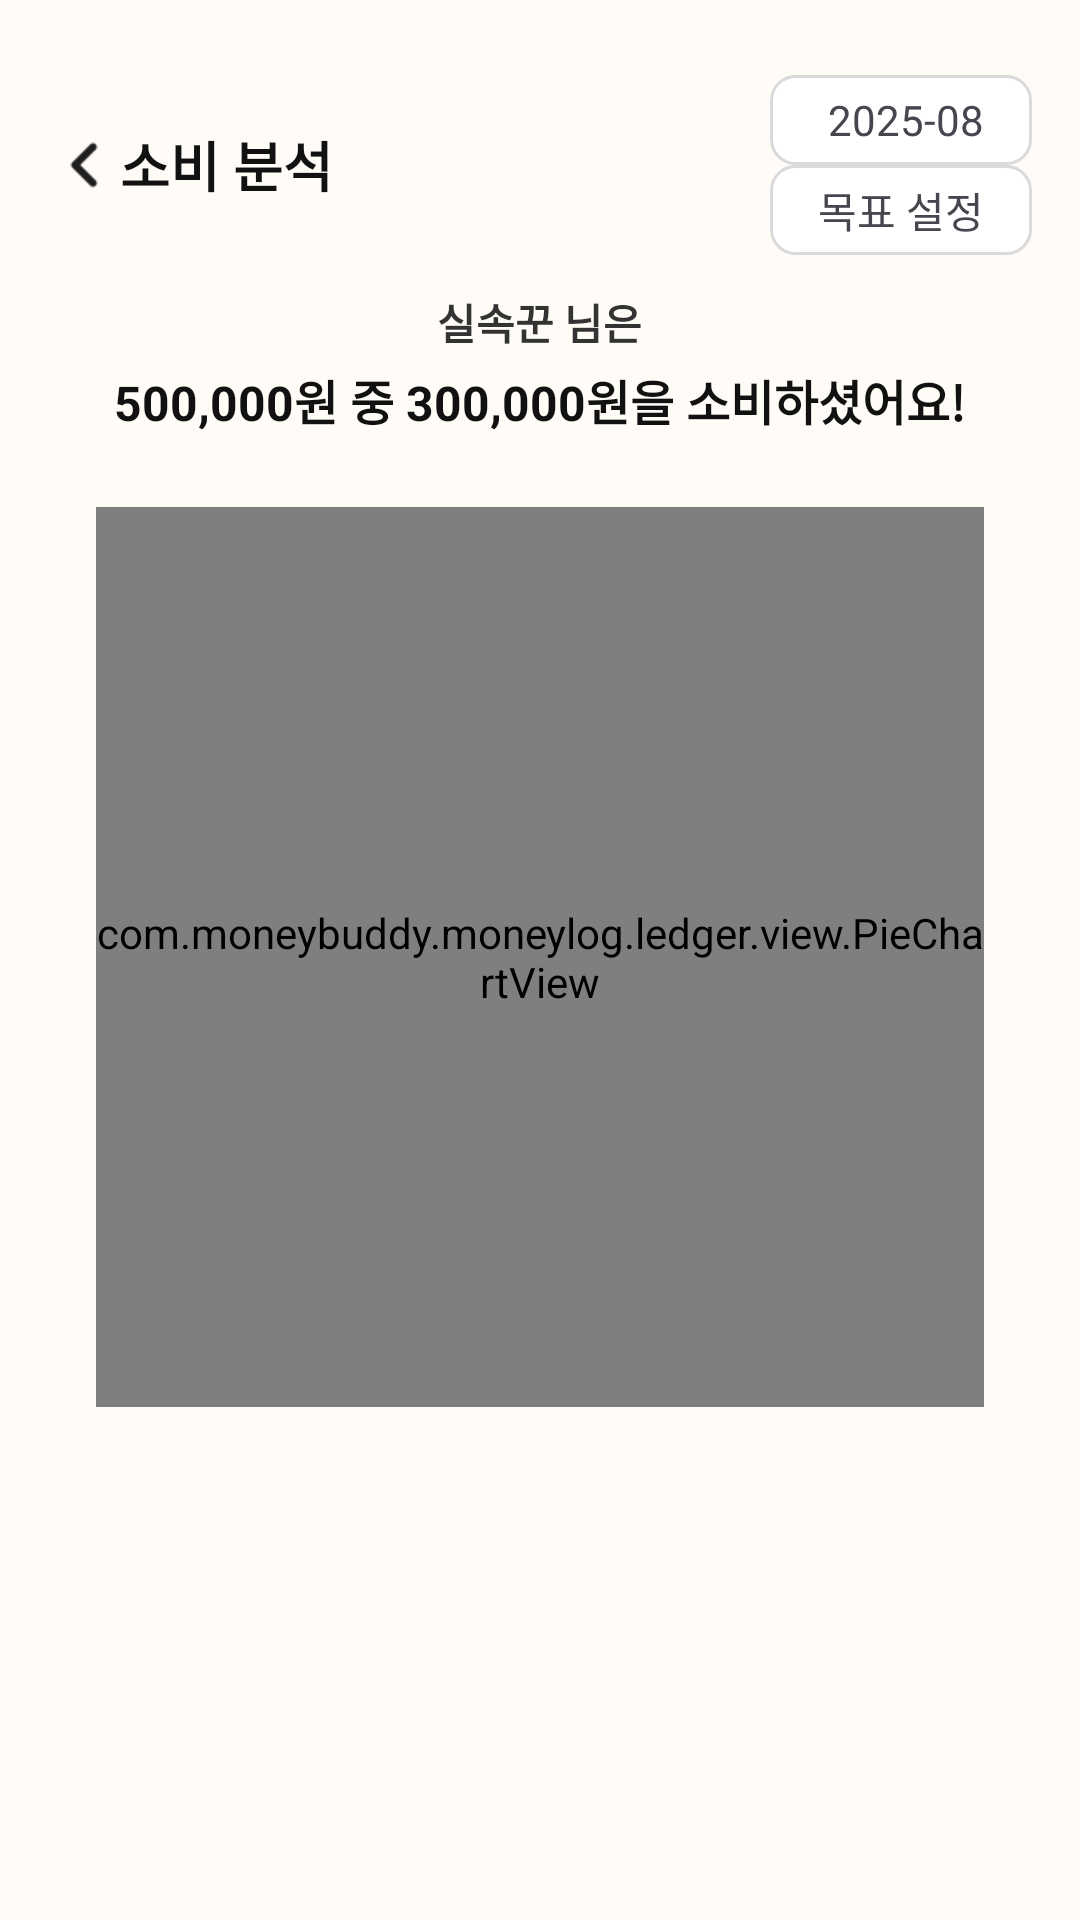

Locate icon controls on the screen. Image size 1080w x 1920h, boxes as (x1, y1, x2, y2).
뒤로: (70, 142, 98, 188)
